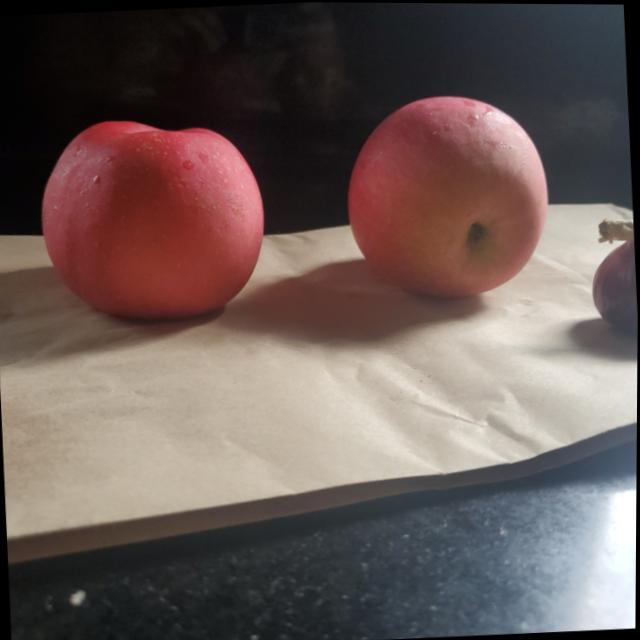apple: (34, 112, 267, 323), (341, 86, 553, 298)
onion: (587, 214, 639, 339)
